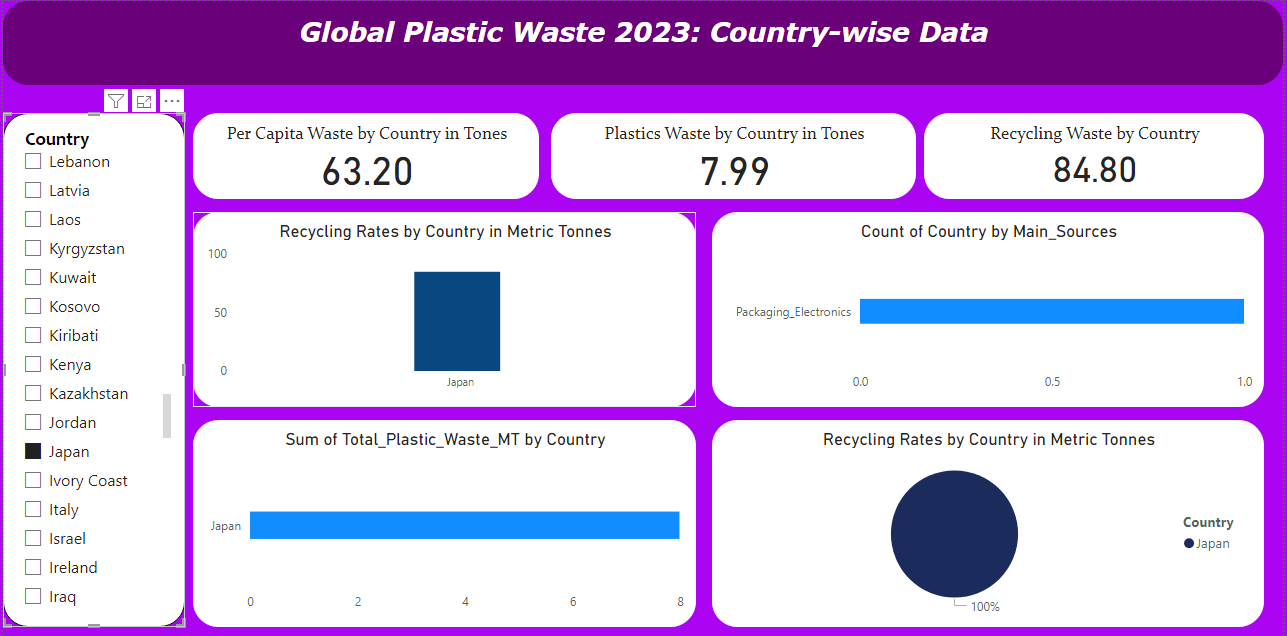

The dashboard page shown, as its layout file describes it:
{"tool":"powerbi","page":{"name":"Page 1","canvas":[1280,720],"ordinal":0},"visuals":[{"type":"columnChart","title":"Recycling Rates by Country in Metric Tonnes","fields":{"Category":["Plastic Waste Around the World.Country"],"Y":["Sum(Plastic Waste Around the World.Recycling_Rate)"]},"box":[190,211,503,195],"z":0},{"type":"barChart","fields":{"Category":["Plastic Waste Around the World.Country"],"Y":["Sum(Plastic Waste Around the World.Total_Plastic_Waste_MT)"]},"box":[190,419,503,207],"z":1000},{"type":"kpi","title":"Per Capita Waste by Country in Tones","fields":{"Indicator":["Sum(Plastic Waste Around the World.Per_Capita_Waste_KG)"],"TrendLine":["Plastic Waste Around the World.Country"]},"box":[190,112,346,86],"z":2000},{"type":"kpi","title":"Recycling Waste by Country","fields":{"TrendLine":["Plastic Waste Around the World.Country"],"Indicator":["Sum(Plastic Waste Around the World.Recycling_Rate)"]},"box":[921,112,340,86],"z":4000},{"type":"textbox","box":[0,0,1280,84],"z":5000},{"type":"pieChart","title":"Recycling Rates by Country in Metric Tonnes","fields":{"Y":["CountNonNull(Plastic Waste Around the World.Main_Sources)"],"Category":["Plastic Waste Around the World.Country"]},"box":[709,419,552,207],"z":6000},{"type":"slicer","fields":{"Values":["Plastic Waste Around the World.Country"]},"box":[0,112,182,514],"z":7001},{"type":"barChart","fields":{"Category":["Plastic Waste Around the World.Main_Sources"],"Y":["CountNonNull(Plastic Waste Around the World.Country)"]},"box":[709,211,552,195],"z":7002},{"type":"kpi","title":"Plastics Waste by Country in Tones","fields":{"TrendLine":["Plastic Waste Around the World.Country"],"Indicator":["Sum(Plastic Waste Around the World.Total_Plastic_Waste_MT)"]},"box":[548,112,365,86],"z":7003}]}

Visuals, with their boxes on the page's 1280x720 design canvas (x1, y1, x2, y2). These are canvas units, not pixel positions in the 1287x636 screenshot, which may show the page scaled, cropped or inside an application window:
"Recycling Rates by Country in Metric Tonnes" columnChart: [190,211,693,406]
barChart - Plastic Waste Around the World.Country x Sum(Plastic Waste Around the World.Total_Plastic_Waste_MT): [190,419,693,626]
"Per Capita Waste by Country in Tones" kpi: [190,112,536,198]
"Recycling Waste by Country" kpi: [921,112,1261,198]
textbox: [0,0,1280,84]
"Recycling Rates by Country in Metric Tonnes" pieChart: [709,419,1261,626]
slicer - Plastic Waste Around the World.Country: [0,112,182,626]
barChart - Plastic Waste Around the World.Main_Sources x CountNonNull(Plastic Waste Around the World.Country): [709,211,1261,406]
"Plastics Waste by Country in Tones" kpi: [548,112,913,198]
